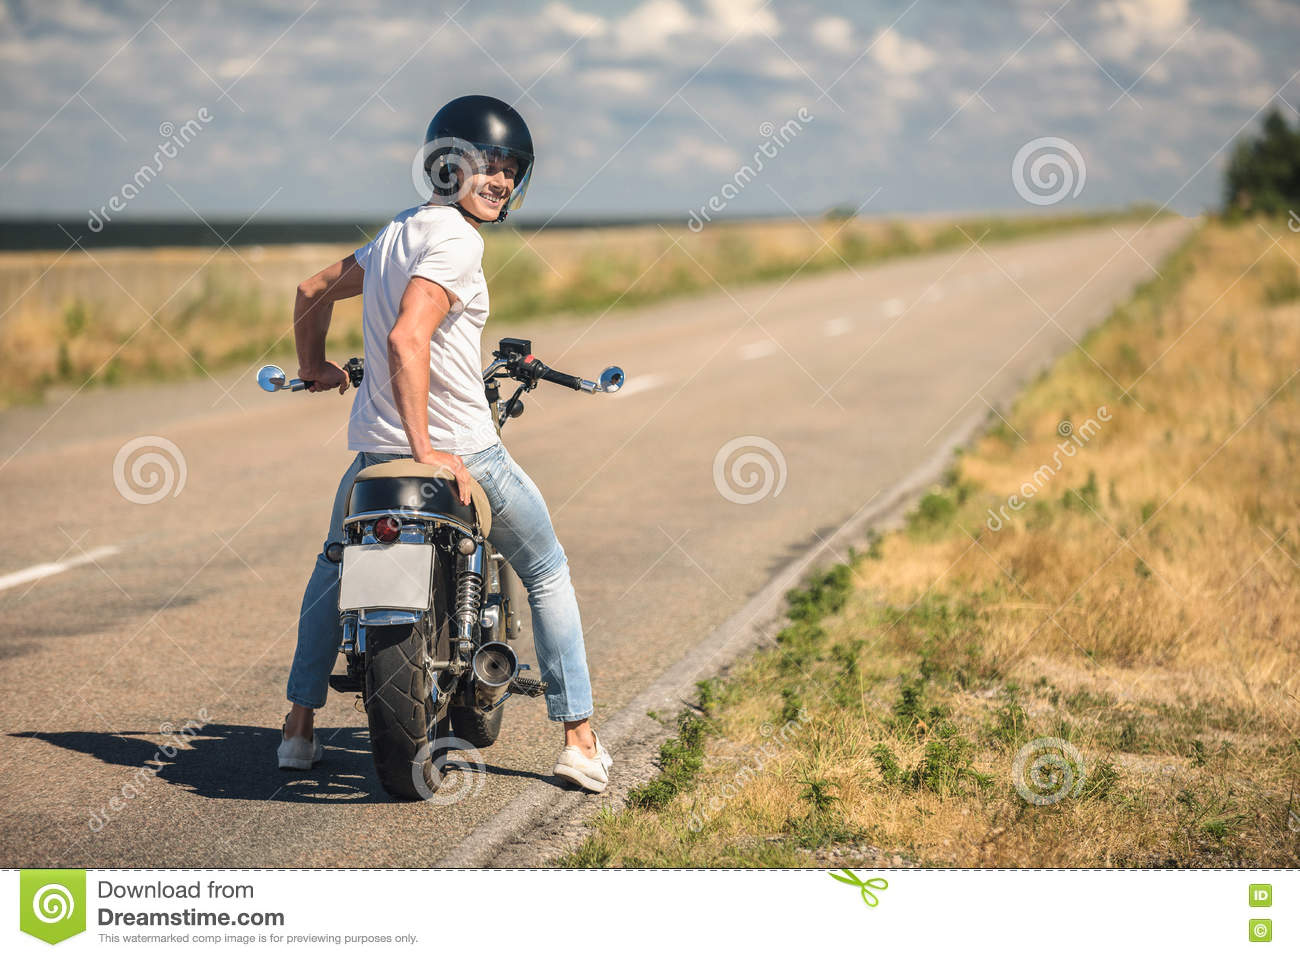helmet: (426, 96, 545, 221)
